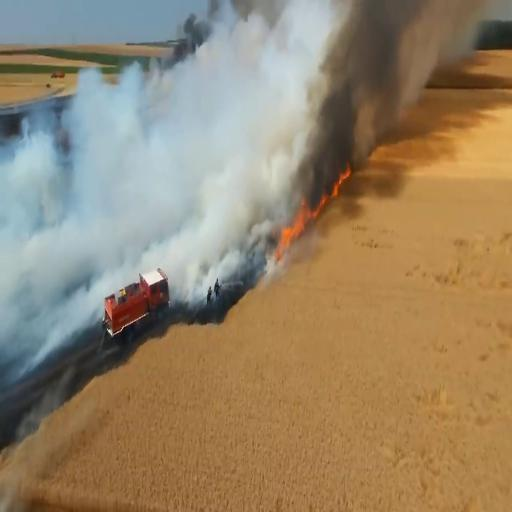fire: (276, 169, 350, 264)
smoke: (0, 0, 298, 306), (313, 0, 424, 203)
